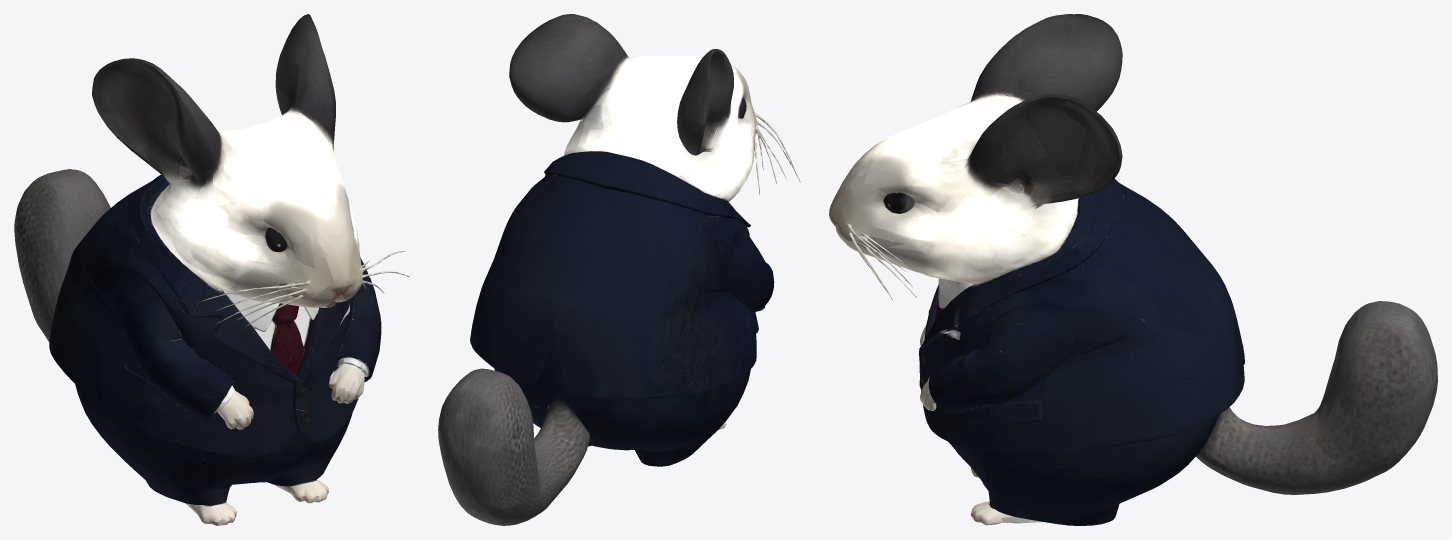
File: costume-suit_chinchilla-white-pied.glb
3 views of the same model, side by side, from view 1: azimuth 30°, elevation 25°; view 2: azimuth 150°, elevation 25°; view 3: azimuth 270°, elevation 25° (orthographic). The views are drawn at different scales.
Parts seen in each view (by area): view 1: Mesh_0; view 2: Mesh_0; view 3: Mesh_0.
Part boxes in pixels (x1,y1,x2,y2): Mesh_0: [14, 14, 409, 525]; Mesh_0: [438, 14, 800, 525]; Mesh_0: [829, 14, 1437, 525].
Bounding box in the file's own units: 0.9342 × 1.52 × 1.9.
1 material, 1 textured.
